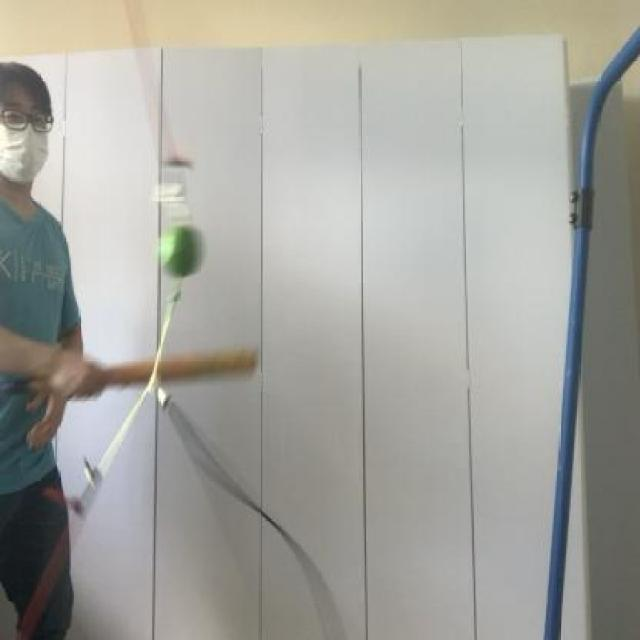baseball: (150, 212, 208, 282)
